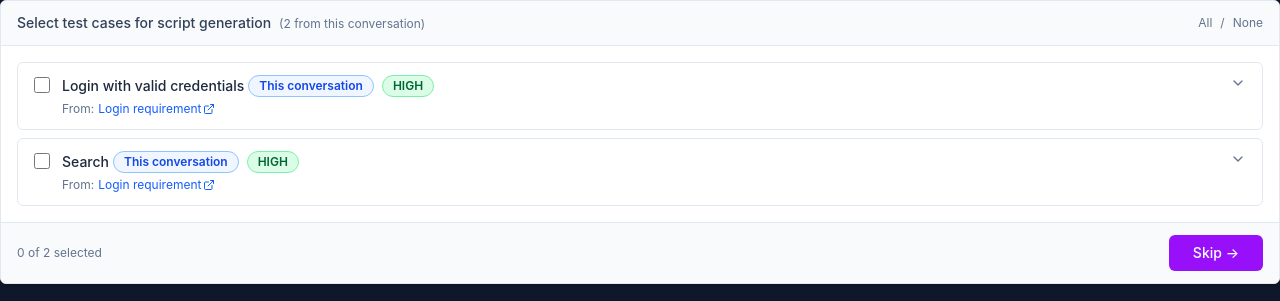
Test case: SarahInputSelection › Checkbox interaction › Select All selects all entries
This screenshot has width=1280, height=301.
What coordinates should you click on to do the following:
click the button "All"
I would click on:
 (1205, 23)
Its box is [1198, 15, 1212, 31].
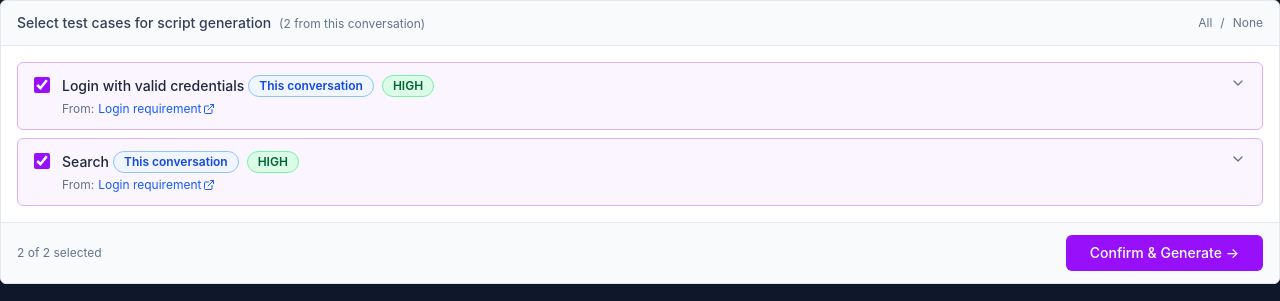
Expected: the text "2 of 2 selected" is shown, [17, 245, 102, 261]
